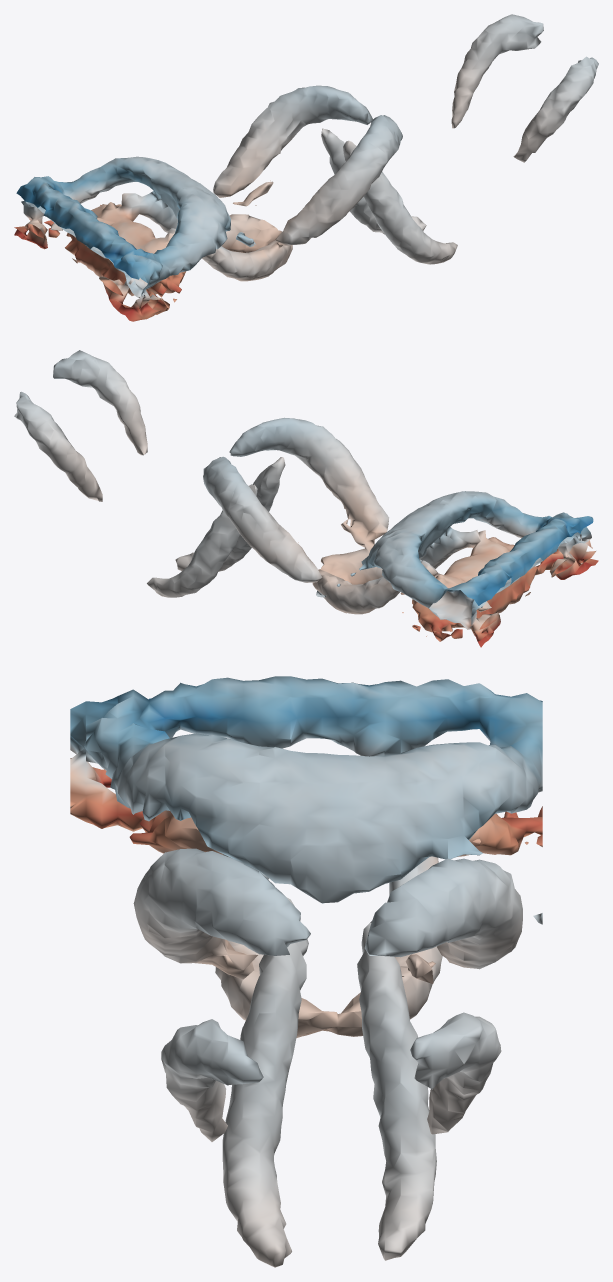
The picture shows the model from 3 angles, top to bottom: view 1: azimuth 30°, elevation 25°; view 2: azimuth 150°, elevation 25°; view 3: azimuth 270°, elevation 25°; orthographic projection. The views are drawn at different scales.
Bounding box in the file's own units: 6.14 × 2.13 × 2.5.
